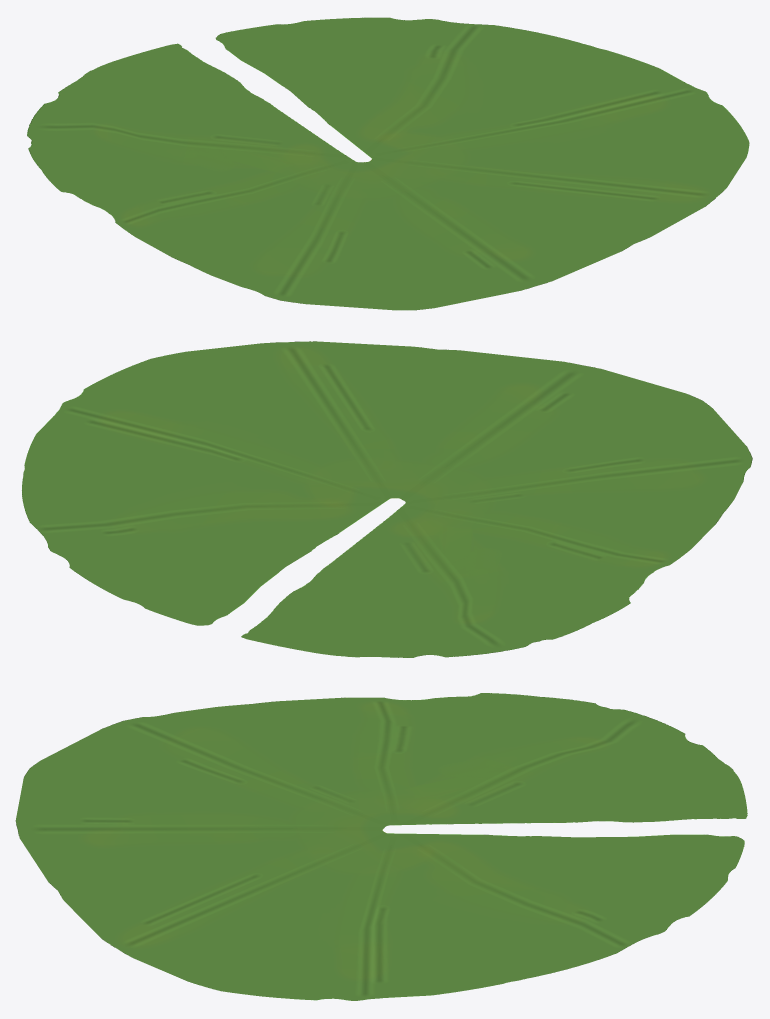
File: LilyPad01.fbx
The picture shows the model from 3 angles, top to bottom: view 1: azimuth 30°, elevation 25°; view 2: azimuth 150°, elevation 25°; view 3: azimuth 270°, elevation 25°; orthographic projection. The views are drawn at different scales.
Visible parts, largest first — view 1: LilyPad01; view 2: LilyPad01; view 3: LilyPad01.
Part boxes in pixels (<box>): LilyPad01: <box>27,17,749,310</box>; LilyPad01: <box>22,341,752,657</box>; LilyPad01: <box>15,693,747,1000</box>.
Bounding box in the file's own units: 81.53 × 0 × 81.31.
Materials: 1 (1 with a texture image).
